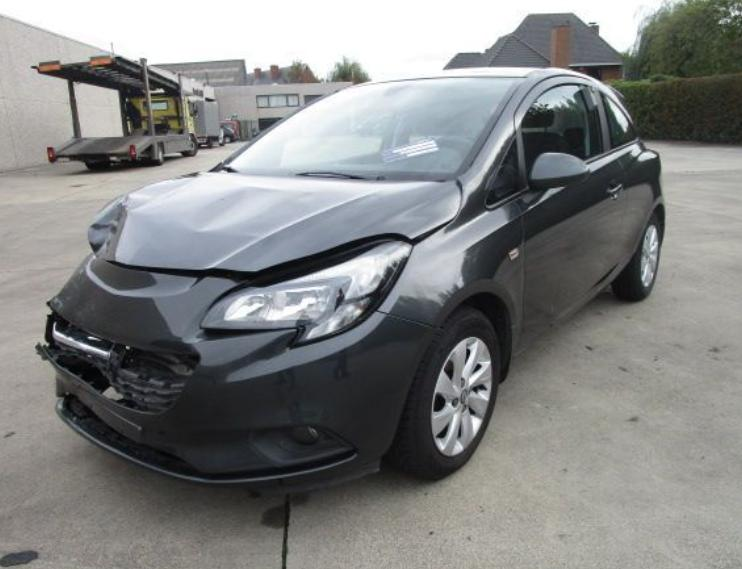Broken part: (31, 253, 437, 488), (89, 174, 466, 291)
Dent: (191, 186, 313, 229), (89, 198, 127, 259), (126, 176, 194, 209)
Scratch: (111, 196, 127, 233), (90, 240, 108, 254), (90, 224, 111, 231), (105, 238, 111, 251)
